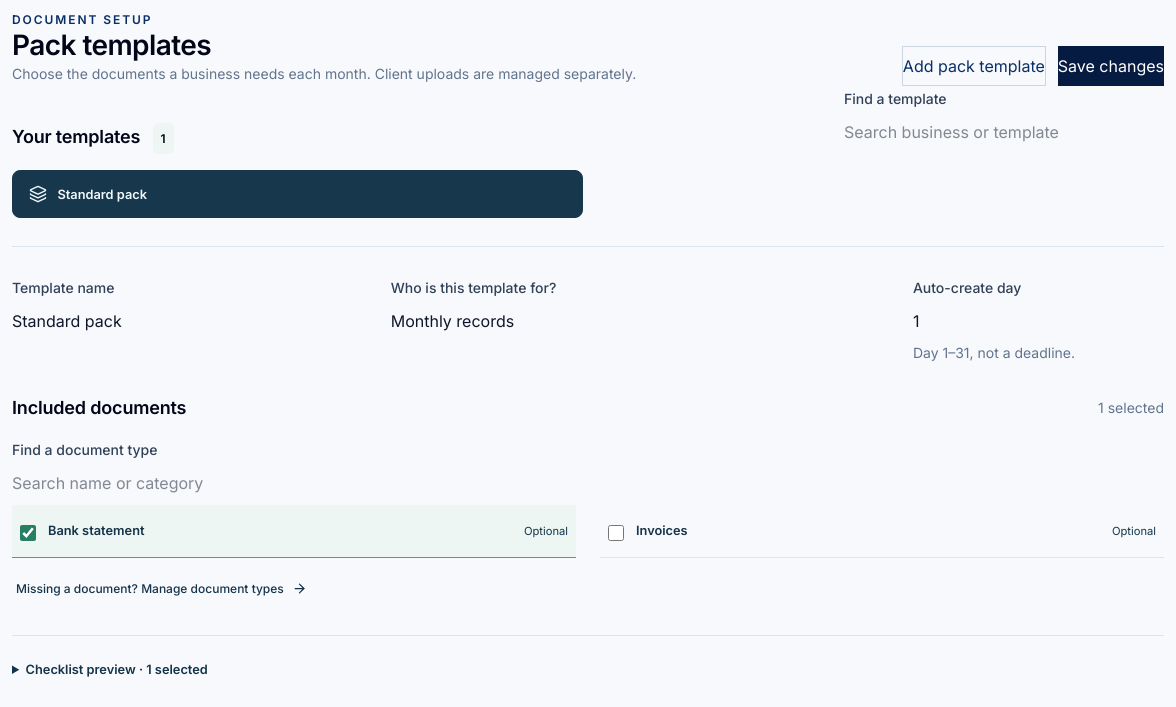
Test case: admin monthly packs › retains edits when saving fails
Step 1. Replace the text in the field showing "Standard pack" with "Retail pack" → (191, 321), box [12,299,371,343]
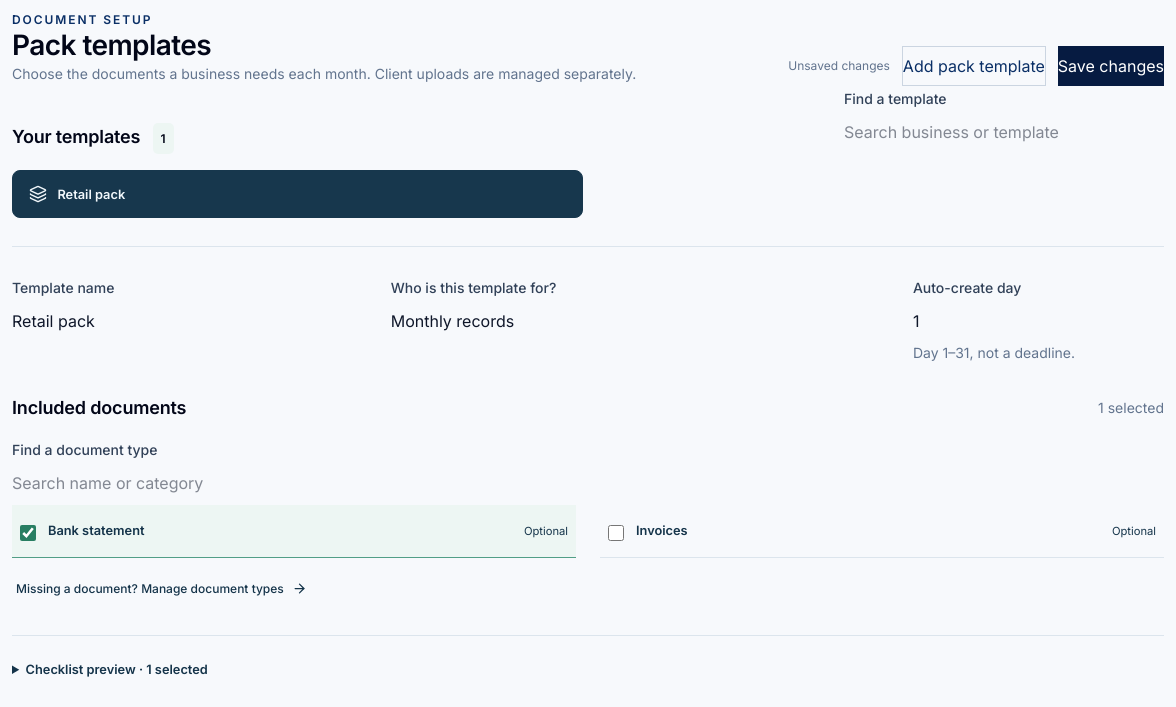
Step 2. Click the button "Save changes" → (1111, 66), box [1058,46,1164,86]
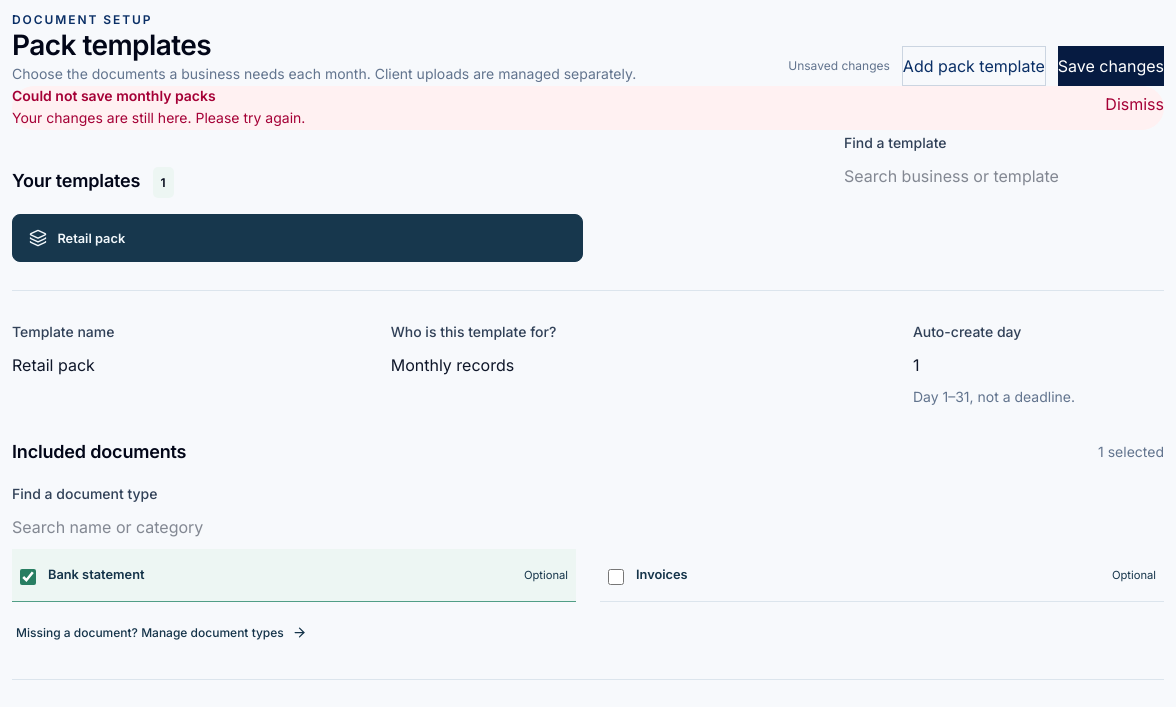
Expected: the text "Could not save monthly packs" is shown, [12,87,216,104]
